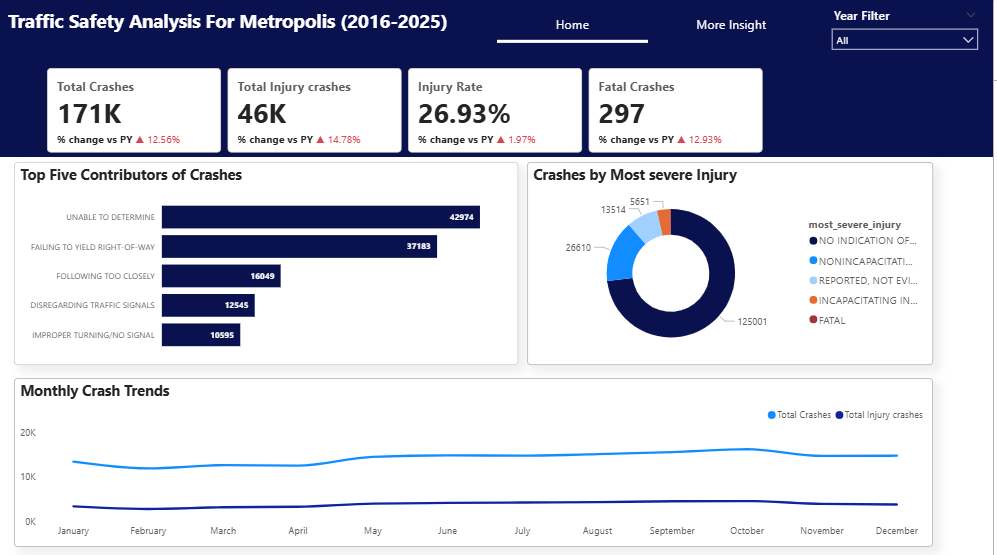

The page's visual inventory and layout, read from the dashboard file:
{"tool":"powerbi","page":{"name":"Home","canvas":[1280,720],"ordinal":0},"visuals":[{"type":"shape","box":[0,0,1280,205.6],"z":0},{"type":"cardVisual","fields":{"Data":["_Measures.Total Crashes","_Measures.Total Injury crashes","_Measures.Injury Rate","_Measures.Fatal Crashes"]},"box":[59.1,86.1,899.6,119.5],"z":1000},{"type":"lineChart","title":"Monthly Crash Trends","fields":{"Y":["_Measures.Total Crashes","_Measures.Total Injury crashes"],"Category":["DateTable.Month Name"]},"box":[21.8,489.6,1181,217.2],"z":2000},{"type":"donutChart","title":"Crashes by Most severe Injury","fields":{"Category":["traffic_accidents.most_severe_injury"],"Y":["CountNonNull(traffic_accidents.most_severe_injury)"]},"box":[681.1,212,521.8,260.9],"z":3000},{"type":"slicer","fields":{"Values":["DateTable.Year"]},"box":[1062.8,7.7,208.2,74.5],"z":4000},{"type":"clusteredBarChart","title":"Top Five Contributors of Crashes","fields":{"Category":["traffic_accidents.prim_contributory_cause"],"Y":["CountNonNull(traffic_accidents.prim_contributory_cause)"]},"box":[21.8,212,647.7,260.9],"z":5000},{"type":"pageNavigator","box":[642.6,9,399.7,50.1],"z":6000},{"type":"textbox","box":[9,9,604,77.1],"z":7000}]}

Visuals, with their boxes in screenshot pixels (x1, y1, x2, y2), scaled from the page's 1280x720 canvas onto the 997x555 screenshot:
shape: [x1=0, y1=0, x2=996, y2=158]
cardVisual - _Measures.Total Crashes x _Measures.Total Injury crashes: [x1=46, y1=66, x2=747, y2=158]
"Monthly Crash Trends" lineChart: [x1=17, y1=377, x2=937, y2=545]
"Crashes by Most severe Injury" donutChart: [x1=531, y1=163, x2=937, y2=365]
slicer - DateTable.Year: [x1=828, y1=6, x2=990, y2=63]
"Top Five Contributors of Crashes" clusteredBarChart: [x1=17, y1=163, x2=521, y2=365]
pageNavigator: [x1=501, y1=7, x2=812, y2=46]
textbox: [x1=7, y1=7, x2=477, y2=66]
